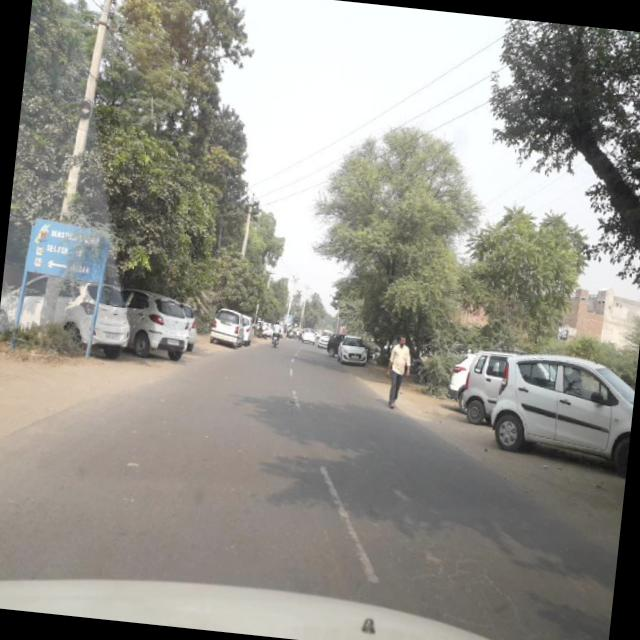crack: (403, 538, 547, 626)
